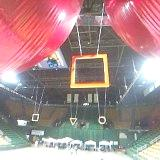Orange_Square_GShape: (70, 54, 109, 88)
Yellow_Circle_GShape: (98, 116, 106, 125)
Yellow_Square_GShape: (32, 114, 39, 122)
Yellow_Triangle_Gshape: (70, 118, 77, 125)
